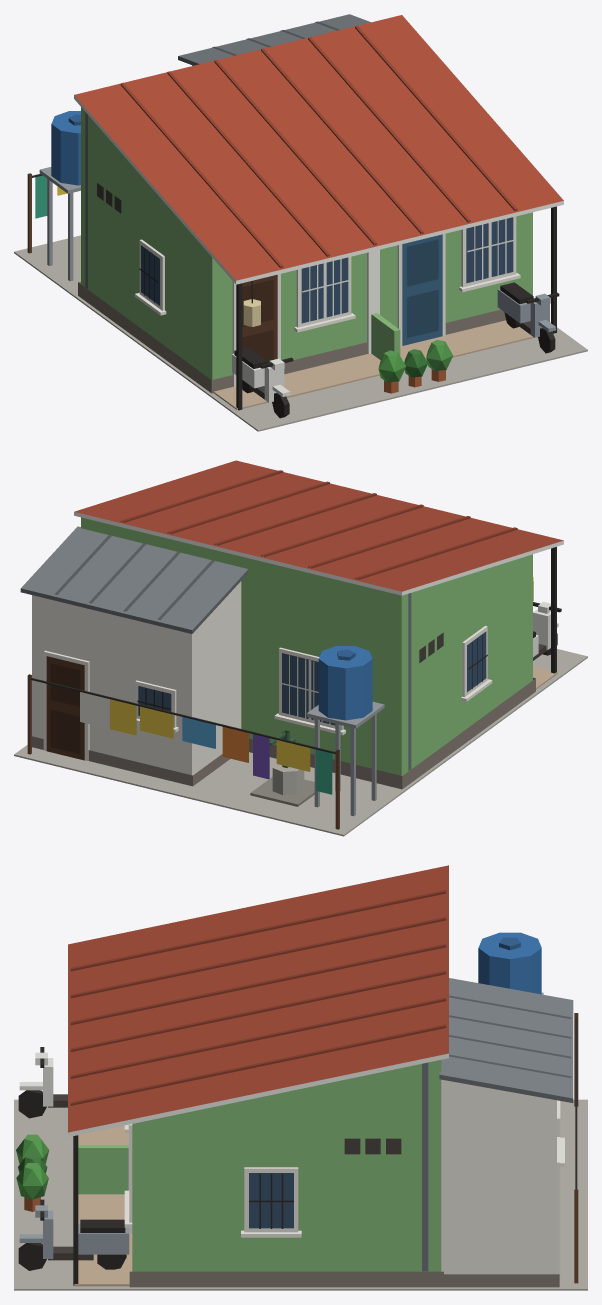
File: rumah_13.glb
3 views of the same model, one above another, from view 1: azimuth 30°, elevation 25°; view 2: azimuth 150°, elevation 25°; view 3: azimuth 270°, elevation 25° (orthographic). The views are drawn at different scales.
Visible parts, largest first — view 1: rumah_13; view 2: rumah_13; view 3: rumah_13.
Boxes of the visible parts, left/top/right/bottom form: rumah_13: left=14, top=14, right=587, bottom=431; rumah_13: left=14, top=460, right=587, bottom=836; rumah_13: left=14, top=865, right=587, bottom=1290.
Size of the model in its own units: 7 by 4.08 by 8.92.
